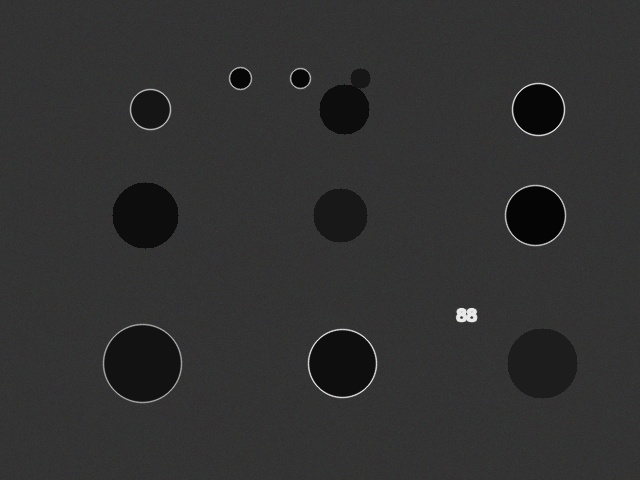hole: (103, 324, 181, 402), (507, 328, 577, 398), (308, 329, 376, 397), (112, 182, 178, 248), (505, 185, 565, 245), (313, 188, 367, 242), (512, 83, 564, 135), (319, 84, 369, 134), (130, 89, 170, 129), (229, 67, 251, 89), (290, 68, 310, 88), (350, 68, 370, 88)
